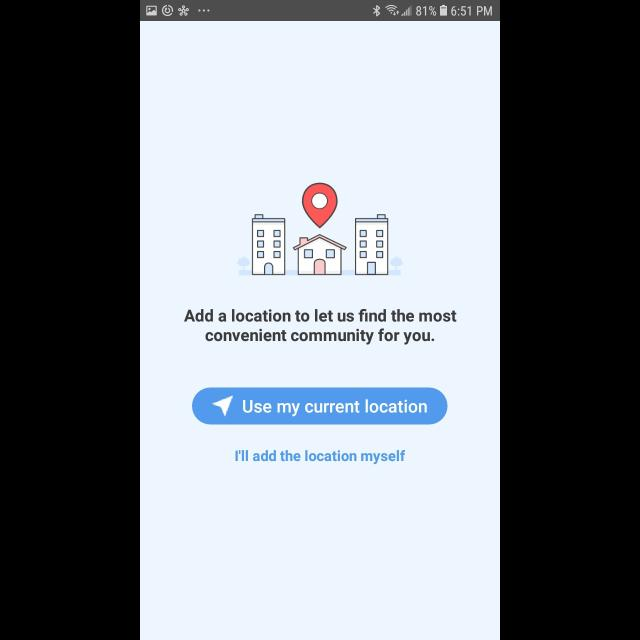image: (237, 182, 403, 276)
text: (184, 309, 456, 345), (235, 450, 405, 464)
textbutton: (192, 388, 448, 424)
uppertaskbar: (140, 1, 500, 22)
